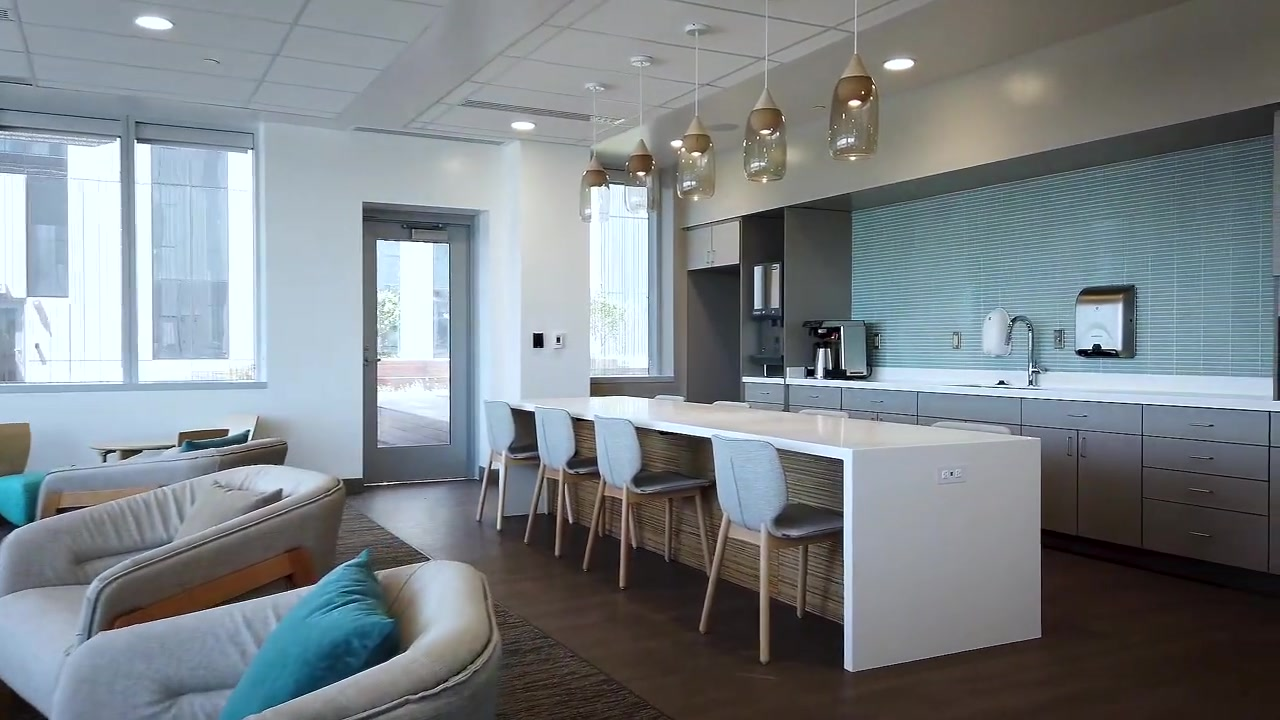cabinet: (685, 213, 741, 274)
chair: (698, 431, 846, 666), (582, 413, 716, 590), (523, 405, 613, 559), (475, 400, 575, 534), (222, 413, 260, 442), (176, 428, 231, 447)
counter: (489, 395, 1043, 672), (741, 384, 1280, 572)
countertop: (499, 397, 1032, 460), (740, 375, 1280, 412)
dispenser: (1073, 284, 1138, 361), (981, 307, 1013, 357)
door_handle: (364, 352, 382, 366)
faucet: (1005, 314, 1046, 388)
handle: (1189, 486, 1215, 494), (1188, 421, 1215, 428), (1080, 436, 1087, 458), (706, 249, 716, 264), (1189, 454, 1214, 460), (1066, 435, 1073, 456), (1188, 531, 1211, 537), (1067, 413, 1089, 419), (869, 399, 886, 404), (759, 391, 773, 396), (809, 395, 821, 399)
sofa: (1, 462, 348, 720), (45, 546, 505, 720), (33, 431, 290, 558)
table: (90, 443, 176, 463)
